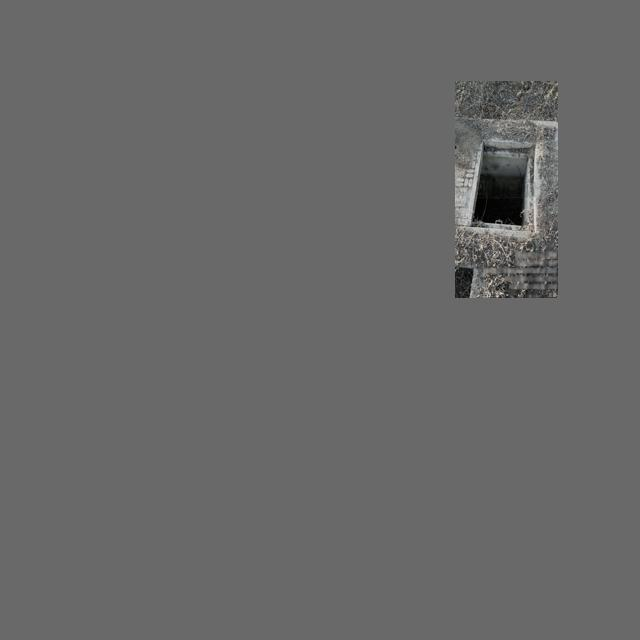lose: (467, 138, 540, 237)
